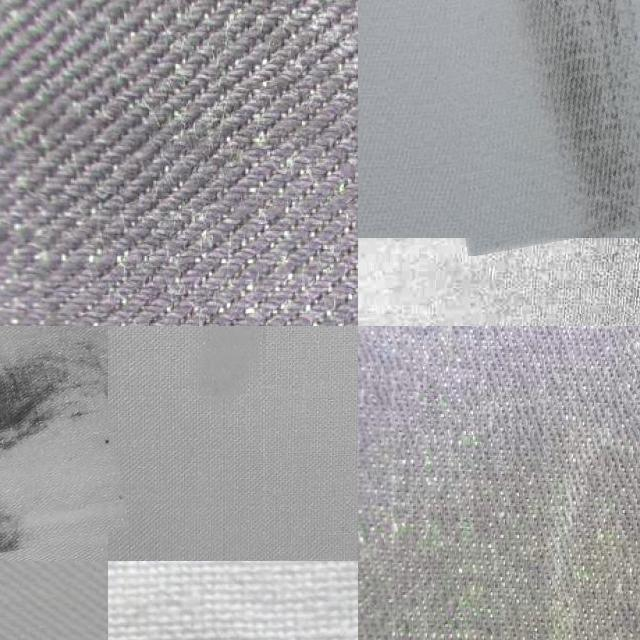Hole: (420, 0, 640, 247), (0, 326, 119, 574)
